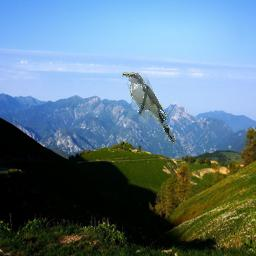Cuckoo: (122, 72, 176, 143)
